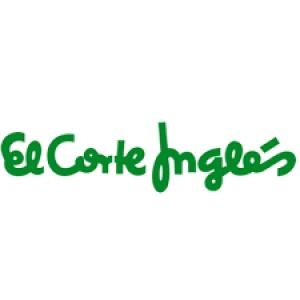corte_ingles: (297, 55, 300, 165)
